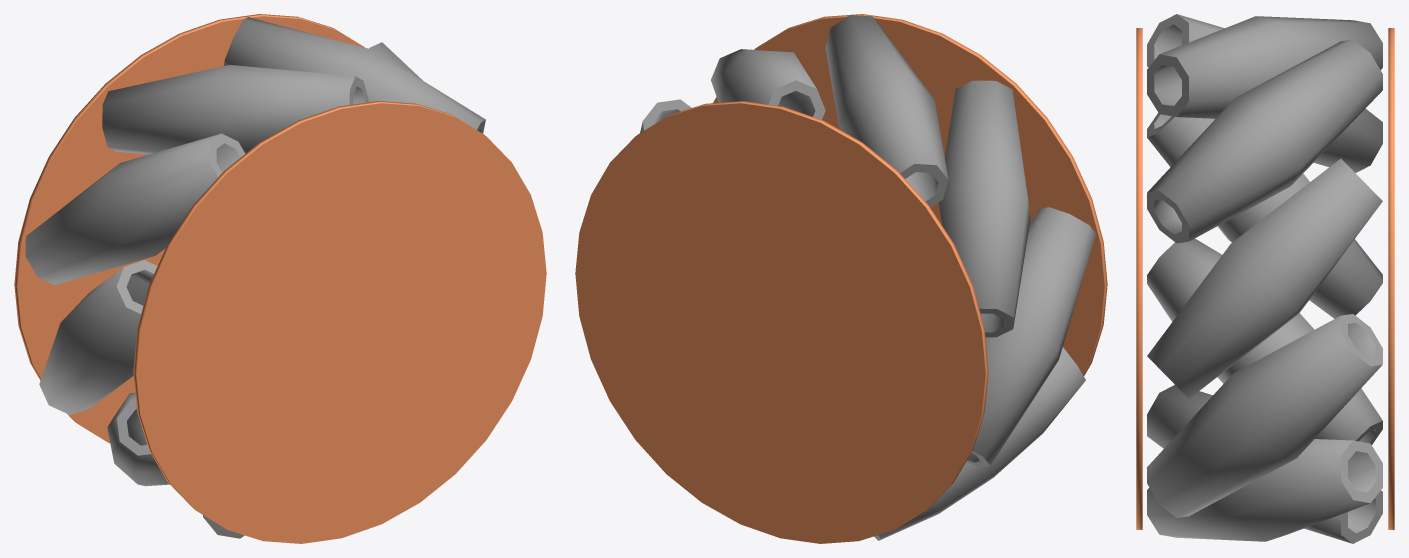
File: omnirobFRWheelRot.dae
The picture shows the model from 3 angles, left to right: view 1: azimuth 30°, elevation 25°; view 2: azimuth 150°, elevation 25°; view 3: azimuth 270°, elevation 25°; orthographic projection. The views are drawn at different scales.
Visible parts, largest first — view 1: Omnirob_FRwheel_visible; view 2: Omnirob_FRwheel_visible; view 3: Omnirob_FRwheel_visible.
Boxes of the visible parts, <box> form: Omnirob_FRwheel_visible: <box>14,14,546,543</box>; Omnirob_FRwheel_visible: <box>575,14,1107,543</box>; Omnirob_FRwheel_visible: <box>1136,14,1394,543</box>.
Size of the model in its own units: 0.254 by 0.1235 by 0.254.
